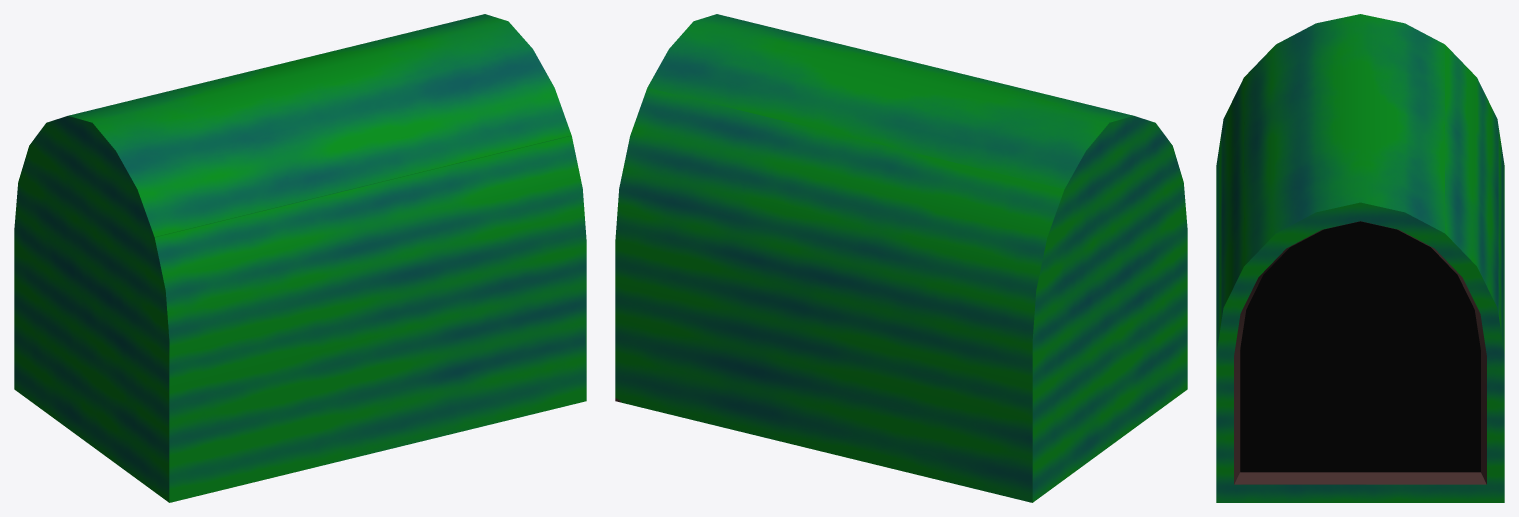
The model's file is Kennel_1.fbx.
3 views of the same model, side by side, from view 1: azimuth 30°, elevation 25°; view 2: azimuth 150°, elevation 25°; view 3: azimuth 270°, elevation 25° (orthographic). The views are drawn at different scales.
Visible parts, largest first — view 1: Kennel 1 EXP; view 2: Kennel 1 EXP; view 3: Kennel 1 EXP.
Boxes of the visible parts, x1,y1,x2,y2 form: Kennel 1 EXP: (14,14,586,502); Kennel 1 EXP: (615,14,1187,502); Kennel 1 EXP: (1216,14,1504,502).
Bounding box in the file's own units: 155 × 115 × 99.9.
1 material, 1 textured.
